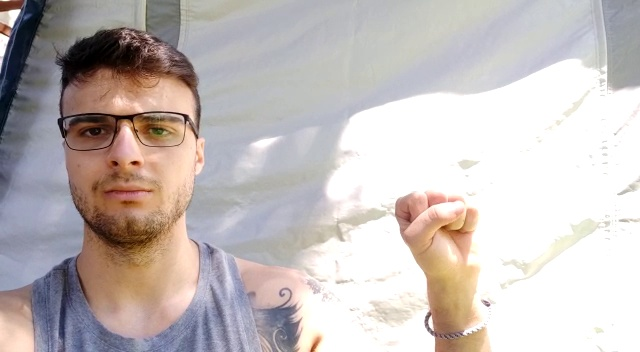Fist: (390, 182, 511, 289)
